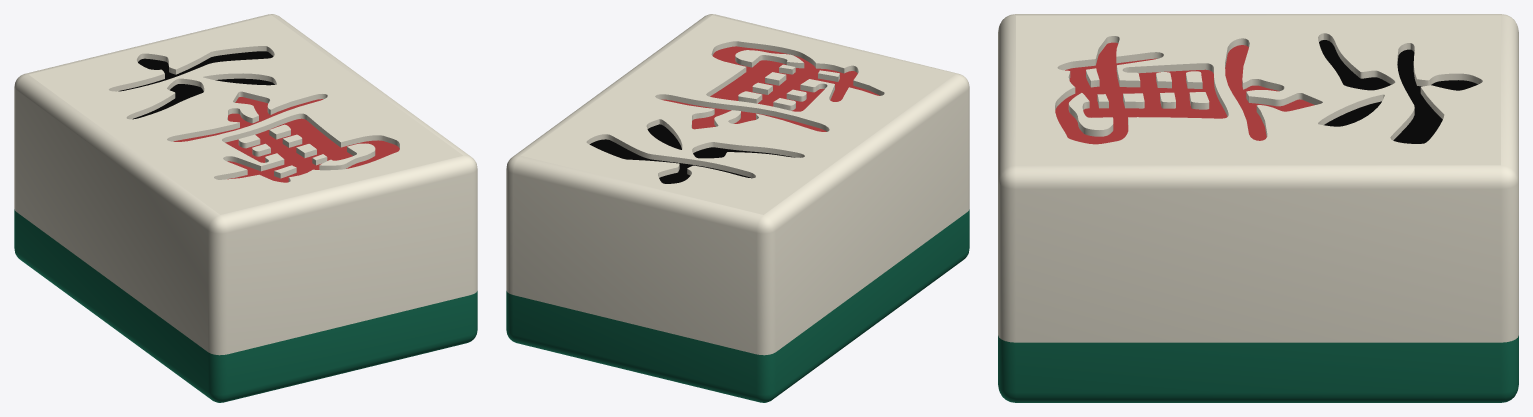
The model's file is Man6.glb.
3 views of the same model, side by side, from view 1: azimuth 30°, elevation 25°; view 2: azimuth 150°, elevation 25°; view 3: azimuth 270°, elevation 25° (orthographic). The views are drawn at different scales.
Parts seen in each view (by area): view 1: Man6_body, Man6_inset; view 2: Man6_body, Man6_inset; view 3: Man6_body, Man6_inset.
Boxes of the visible parts, x1,y1,x2,y2 form: Man6_body: (14, 14, 477, 402); Man6_inset: (118, 51, 399, 182); Man6_body: (506, 14, 969, 402); Man6_inset: (589, 46, 879, 183); Man6_body: (998, 14, 1518, 402); Man6_inset: (1055, 40, 1477, 144).
Bounding box in the file's own units: 0.024 × 0.016 × 0.032.
